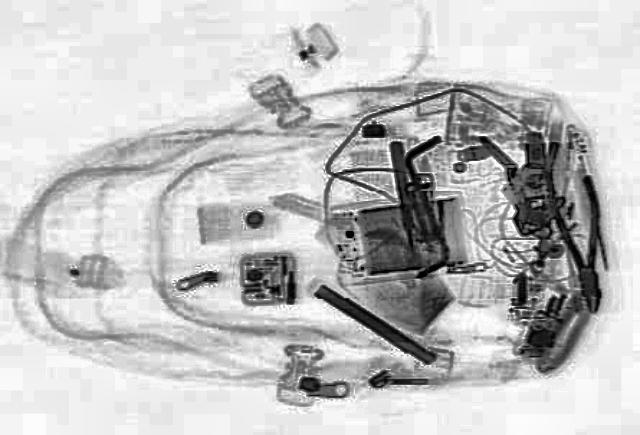Pliers: (534, 138, 618, 314)
